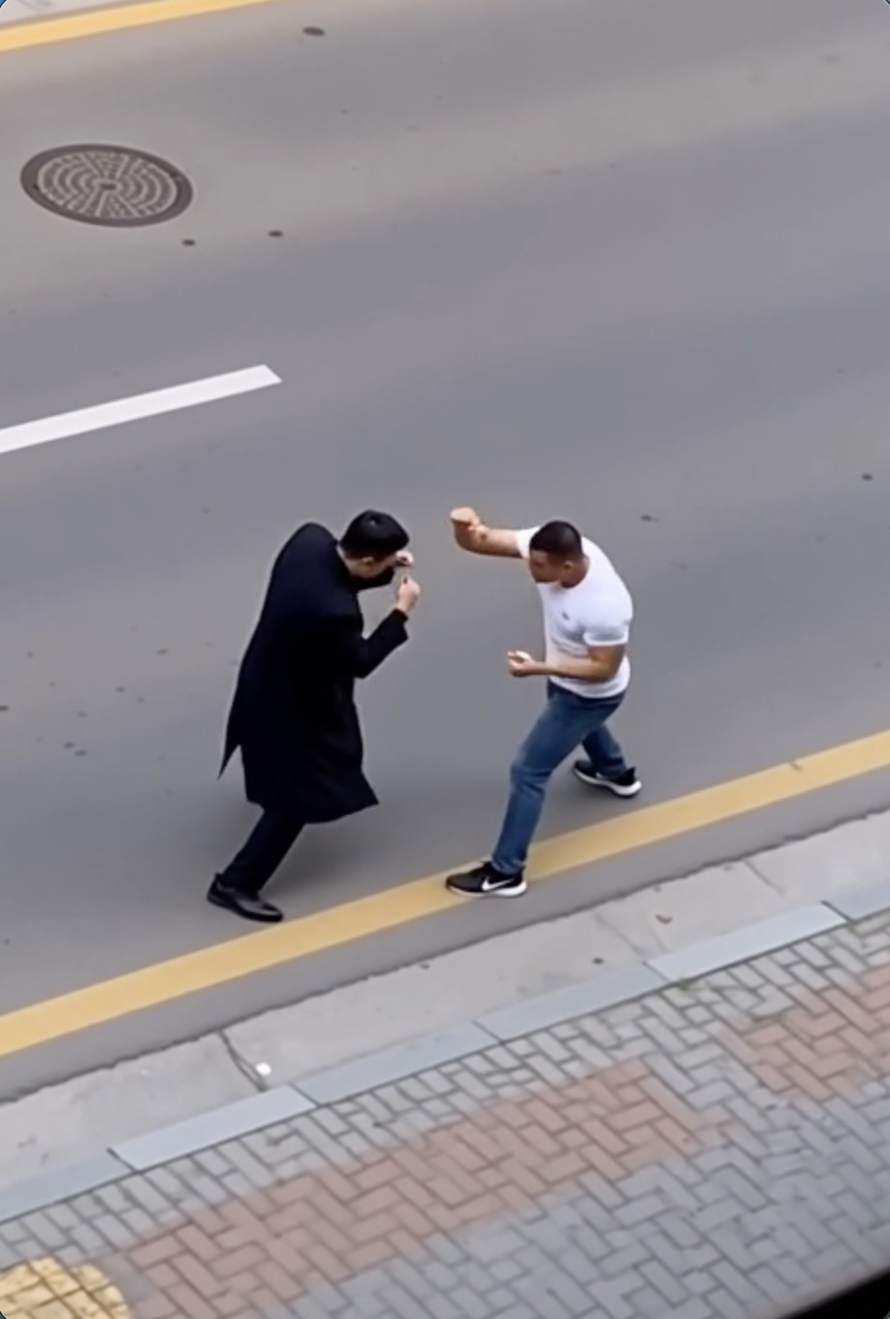Assault: (206, 511, 420, 925)
Fighting: (443, 508, 641, 899)
